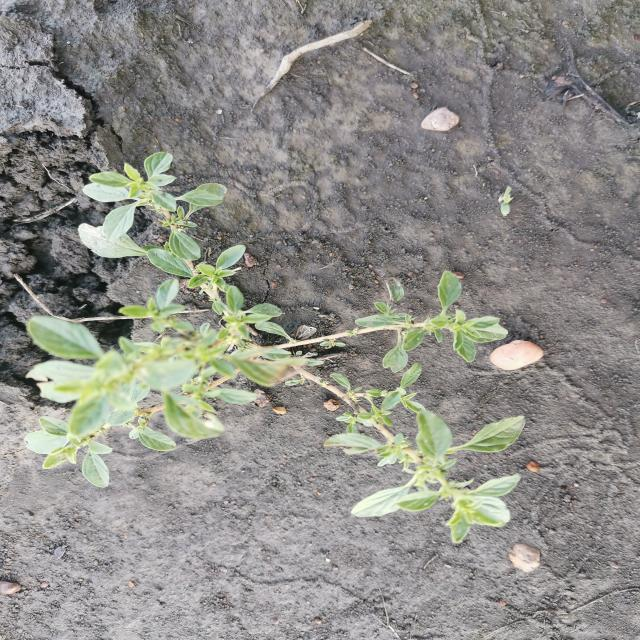Waterhemp: (20, 150, 527, 546)
